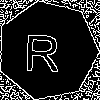R: (23, 25, 61, 72)
